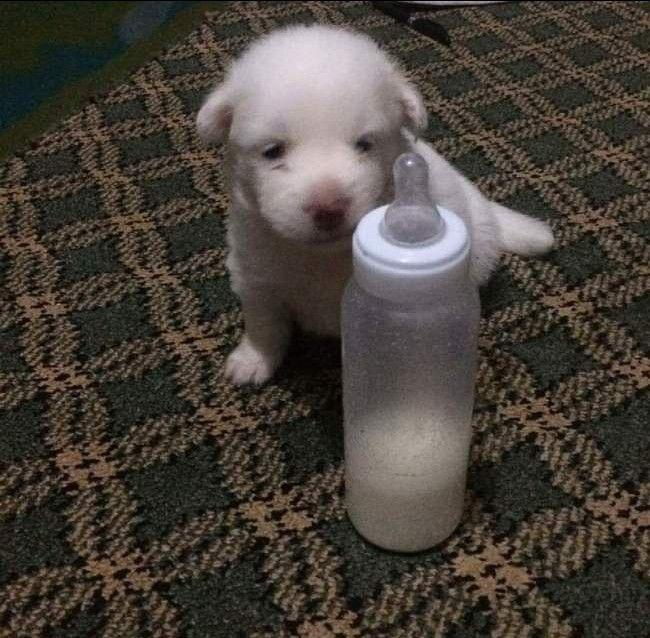puppy-dog: (192, 19, 556, 389)
